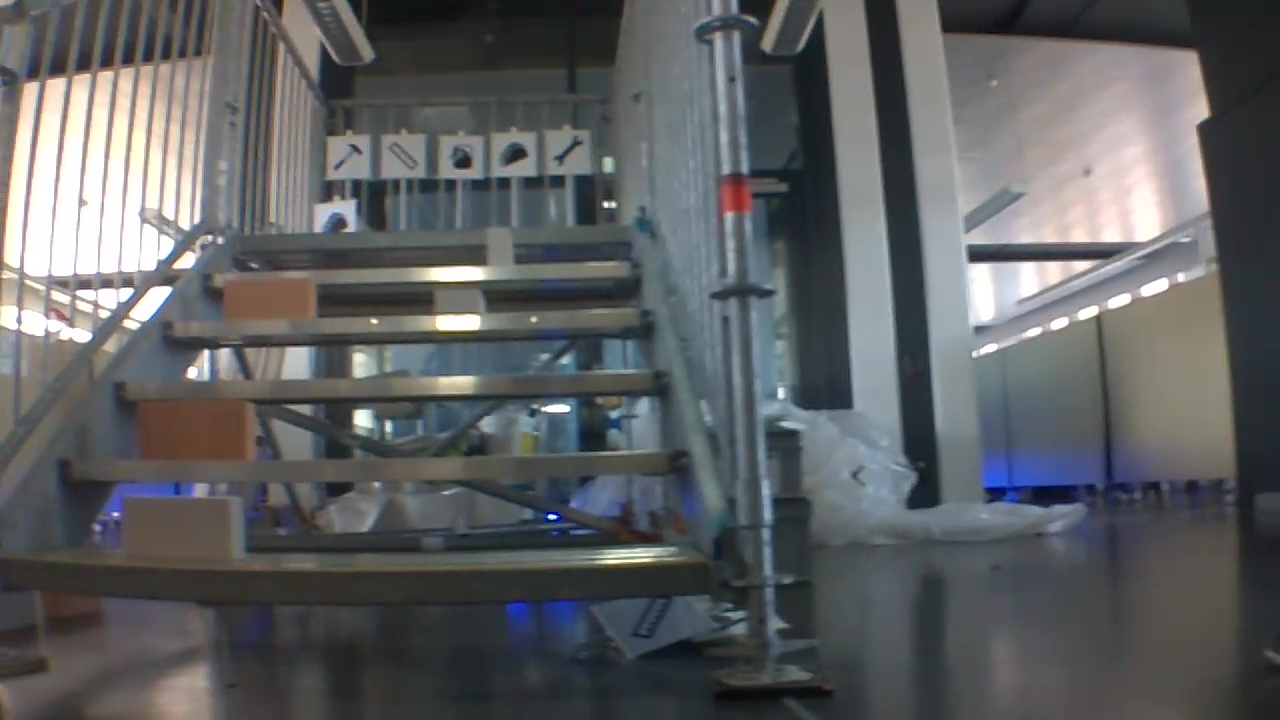brick: (121, 495, 242, 559), (138, 402, 255, 461), (224, 279, 314, 316), (434, 291, 483, 314), (487, 226, 512, 264)
bucket: (443, 140, 478, 174)
edge: (2, 553, 712, 603), (58, 447, 687, 481), (111, 367, 664, 394), (163, 308, 656, 335), (204, 261, 643, 282), (239, 224, 629, 246)
hammer: (328, 139, 366, 174)
ruler: (383, 138, 422, 173)
stairs: (0, 0, 839, 710)
steps: (0, 218, 719, 621)
taco: (495, 136, 530, 168), (316, 206, 350, 232)
wrench: (548, 129, 588, 172)
